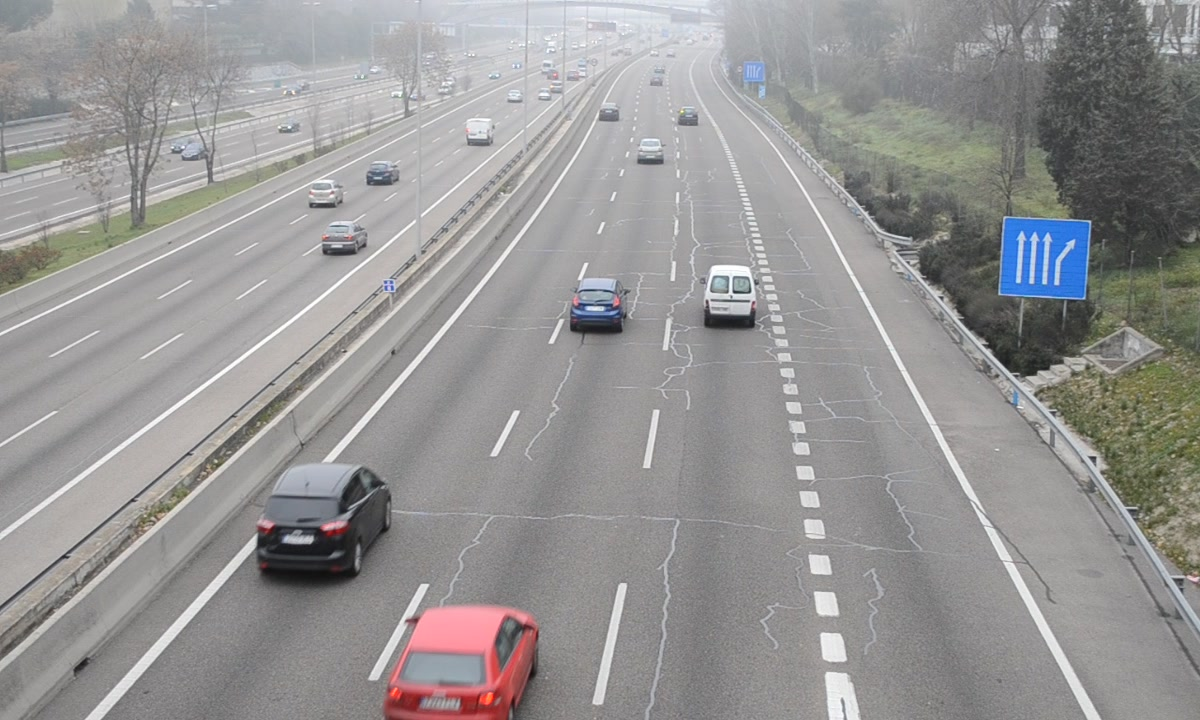car: (387, 606, 535, 720), (256, 465, 390, 576), (571, 281, 628, 332), (636, 138, 666, 164), (598, 101, 621, 123), (677, 106, 699, 128)
van: (703, 265, 758, 327)
